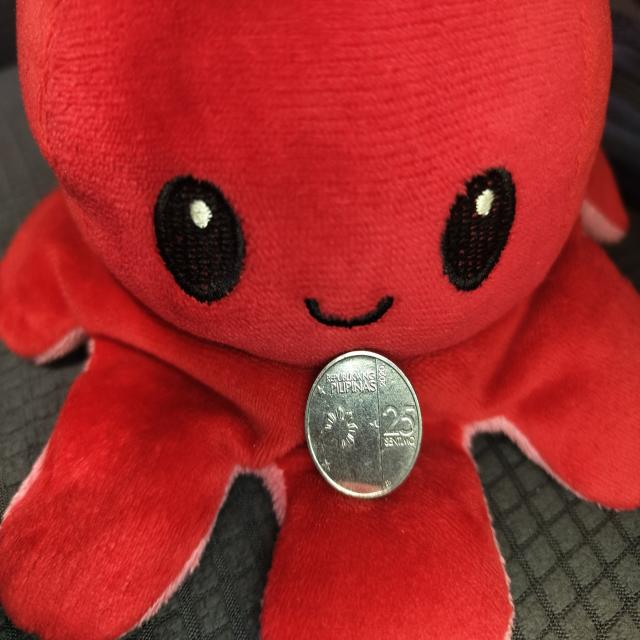25 cents: (302, 342, 426, 510)
